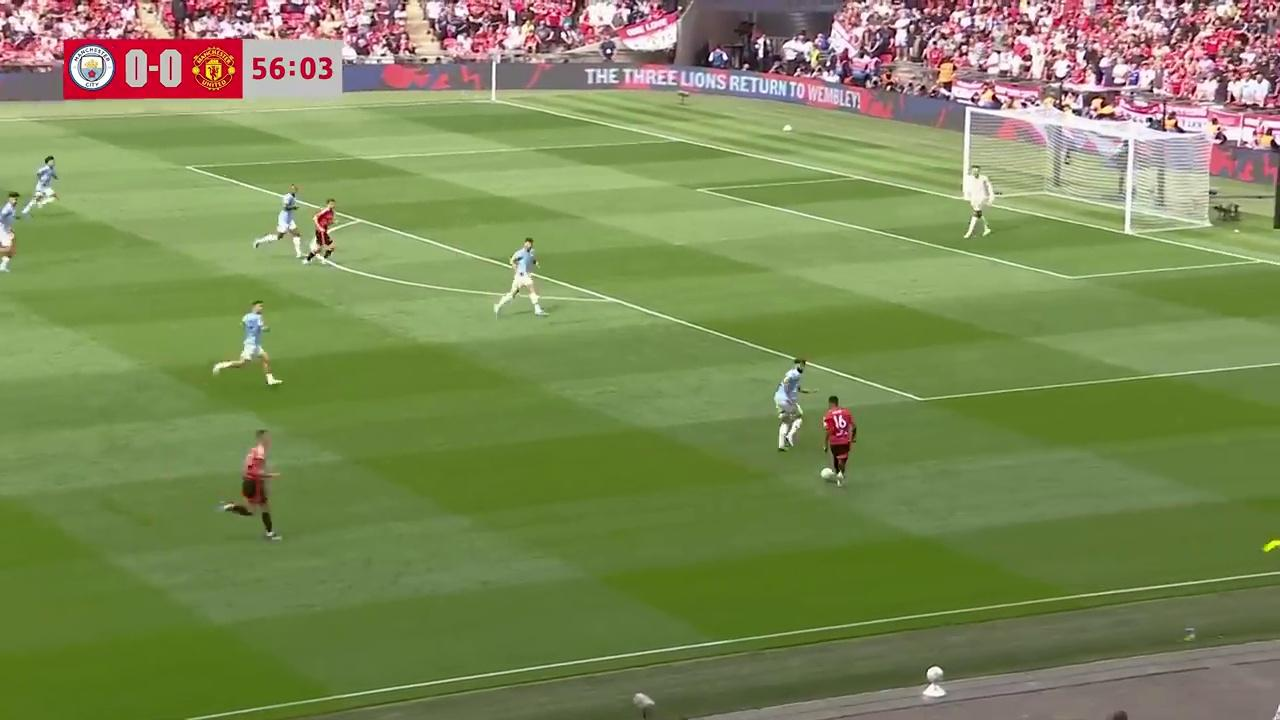ball: (820, 464, 835, 482)
player: (220, 429, 283, 541), (214, 300, 281, 386), (494, 236, 545, 318), (254, 185, 303, 253), (821, 395, 856, 488), (774, 361, 805, 450), (301, 199, 337, 266), (24, 154, 59, 217), (962, 169, 993, 238), (0, 191, 17, 273)
referee: (1261, 503, 1280, 569)
